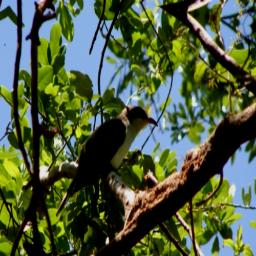Cuckoo: (57, 92, 161, 237)
